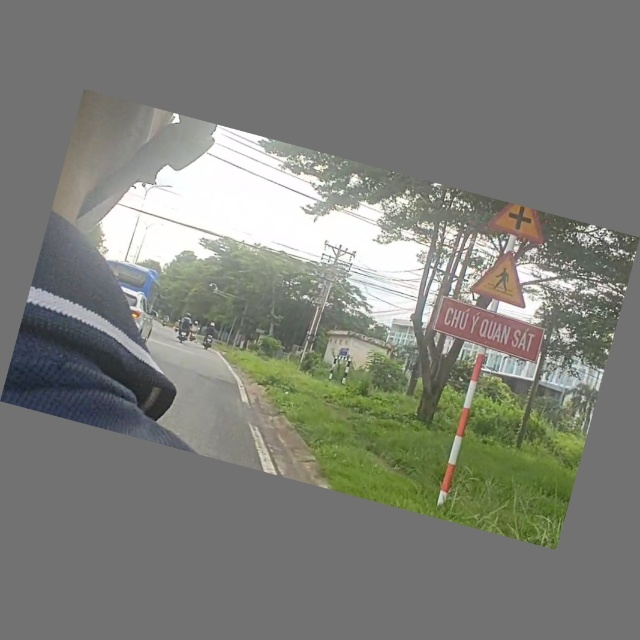W.205a: (485, 200, 555, 246)
W.224: (470, 244, 542, 312)
